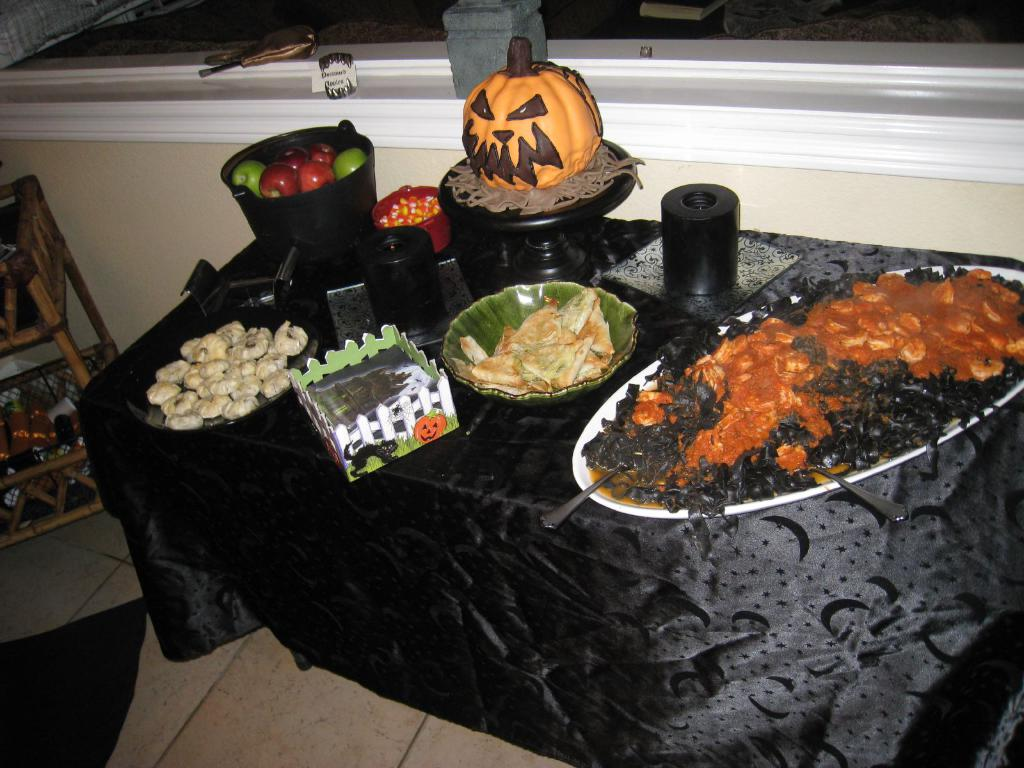Apple: (257, 161, 295, 196), (232, 160, 265, 196), (295, 161, 332, 192), (332, 147, 364, 179), (277, 149, 309, 170), (310, 143, 335, 165)
